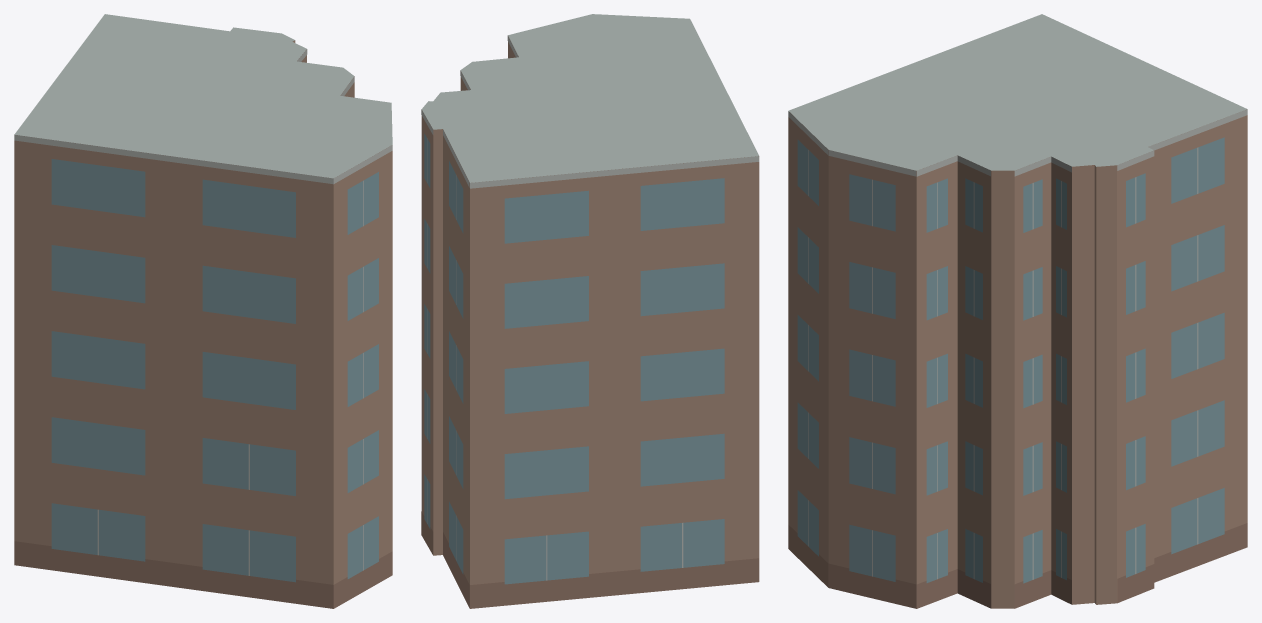
Rendered from survey-upis-33042691.glb.
3 views of the same model, side by side, from view 1: azimuth 30°, elevation 25°; view 2: azimuth 150°, elevation 25°; view 3: azimuth 270°, elevation 25° (orthographic). The views are drawn at different scales.
Parts seen in each view (by area): view 1: survey-upis-33042691.tmp; view 2: survey-upis-33042691.tmp; view 3: survey-upis-33042691.tmp.
Part boxes in pixels (x1=…): survey-upis-33042691.tmp: x1=14, y1=14, x2=392, y2=608; survey-upis-33042691.tmp: x1=421, y1=14, x2=759, y2=608; survey-upis-33042691.tmp: x1=788, y1=14, x2=1247, y2=608.
Size of the model in its own units: 13.84 by 18.02 by 17.13.
